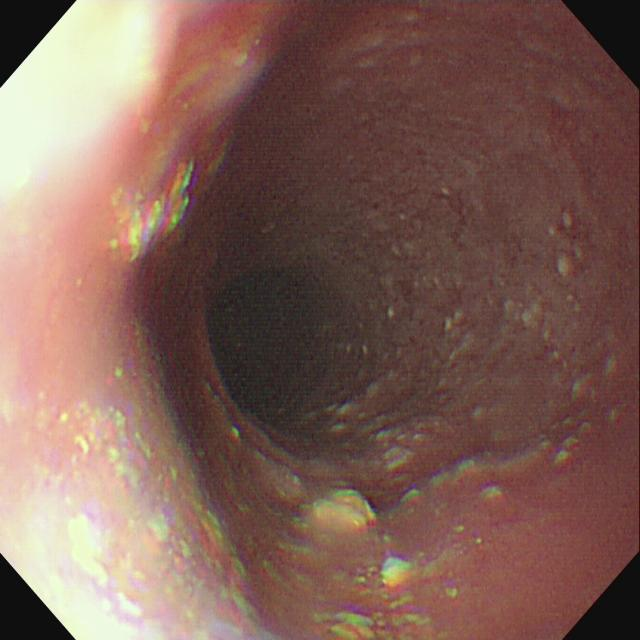E: (189, 248, 372, 438)
J: (304, 489, 426, 640), (105, 159, 199, 265), (315, 403, 447, 473)
